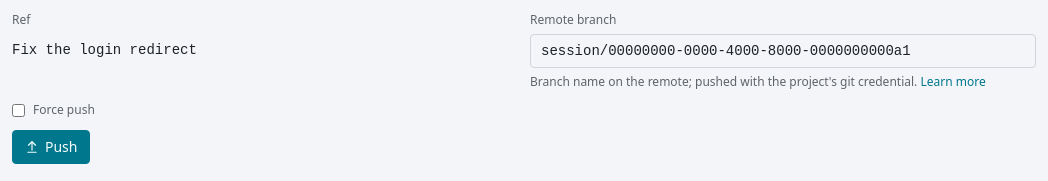
PushForm › offers the compare page of a github remote after a push
Click the button "Push". click: [51, 147]
box: 12,130 -> 90,164
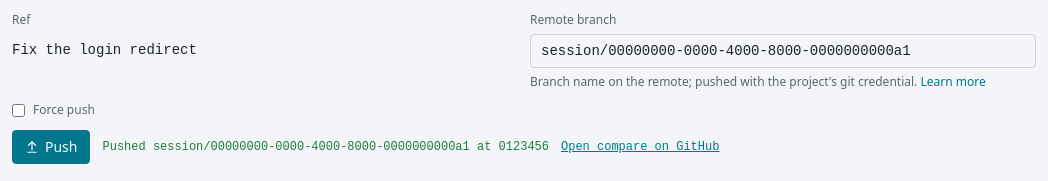
Check: the text "Pushed session/" is shown, box 102,139 -> 549,155
